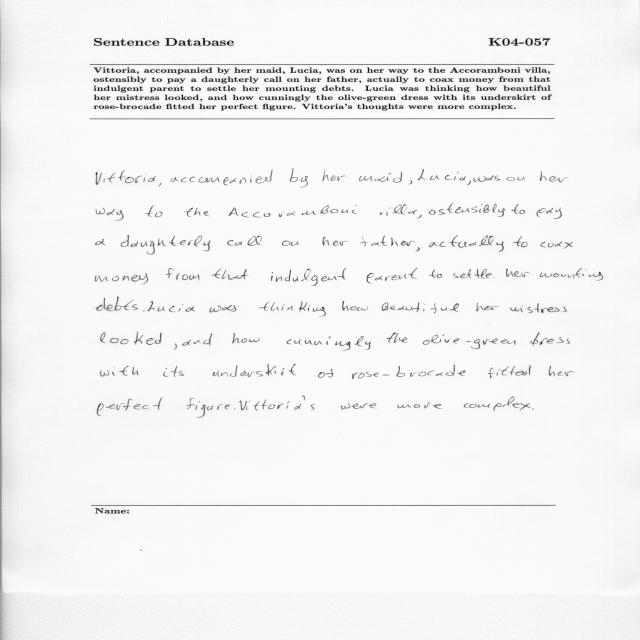word: (121, 236, 211, 255), (171, 169, 273, 185), (352, 365, 466, 379), (229, 205, 357, 217), (423, 335, 516, 350), (271, 268, 347, 286), (97, 397, 163, 416), (287, 336, 371, 350), (439, 235, 504, 252), (212, 364, 296, 377), (239, 396, 315, 410), (360, 235, 420, 252), (259, 302, 326, 317), (438, 203, 505, 217), (464, 397, 531, 411), (96, 170, 156, 185), (187, 398, 230, 418), (101, 331, 162, 345), (382, 302, 459, 313), (540, 268, 603, 281), (367, 268, 418, 284), (380, 204, 422, 219), (96, 297, 138, 311), (95, 273, 148, 284), (418, 169, 466, 181), (510, 303, 567, 313), (530, 332, 570, 346), (488, 365, 531, 378), (147, 301, 195, 312), (359, 172, 402, 183), (453, 269, 494, 279), (166, 268, 200, 280), (212, 269, 248, 280), (182, 334, 212, 347), (101, 366, 138, 376), (96, 208, 124, 221), (227, 236, 262, 246), (290, 169, 308, 188), (540, 171, 568, 182), (536, 208, 562, 219), (549, 366, 575, 377), (322, 236, 349, 246), (233, 333, 260, 343), (322, 170, 346, 181), (184, 207, 210, 217), (342, 301, 368, 311), (341, 403, 377, 410), (540, 242, 573, 249), (163, 366, 184, 377), (387, 332, 407, 343), (476, 303, 499, 312), (506, 269, 530, 277), (210, 305, 237, 312), (145, 206, 162, 217), (474, 175, 500, 182), (514, 236, 528, 247), (318, 369, 334, 378), (512, 204, 525, 214), (424, 402, 442, 409), (429, 269, 442, 278), (282, 240, 299, 246), (398, 404, 421, 408), (507, 177, 526, 181), (96, 239, 106, 245), (429, 242, 437, 247), (429, 210, 436, 215), (174, 343, 177, 350), (467, 181, 471, 186), (408, 180, 412, 184), (158, 183, 161, 186), (143, 311, 145, 312), (234, 408, 236, 409), (532, 409, 534, 410)
